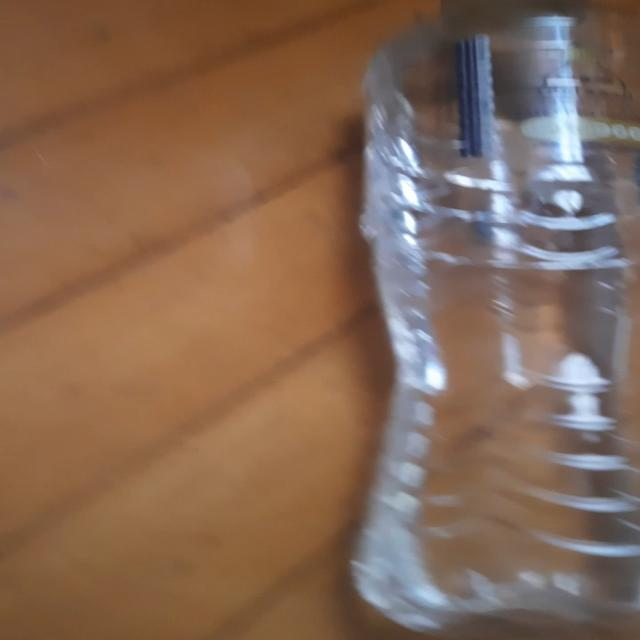Plastic: (345, 0, 640, 640)
